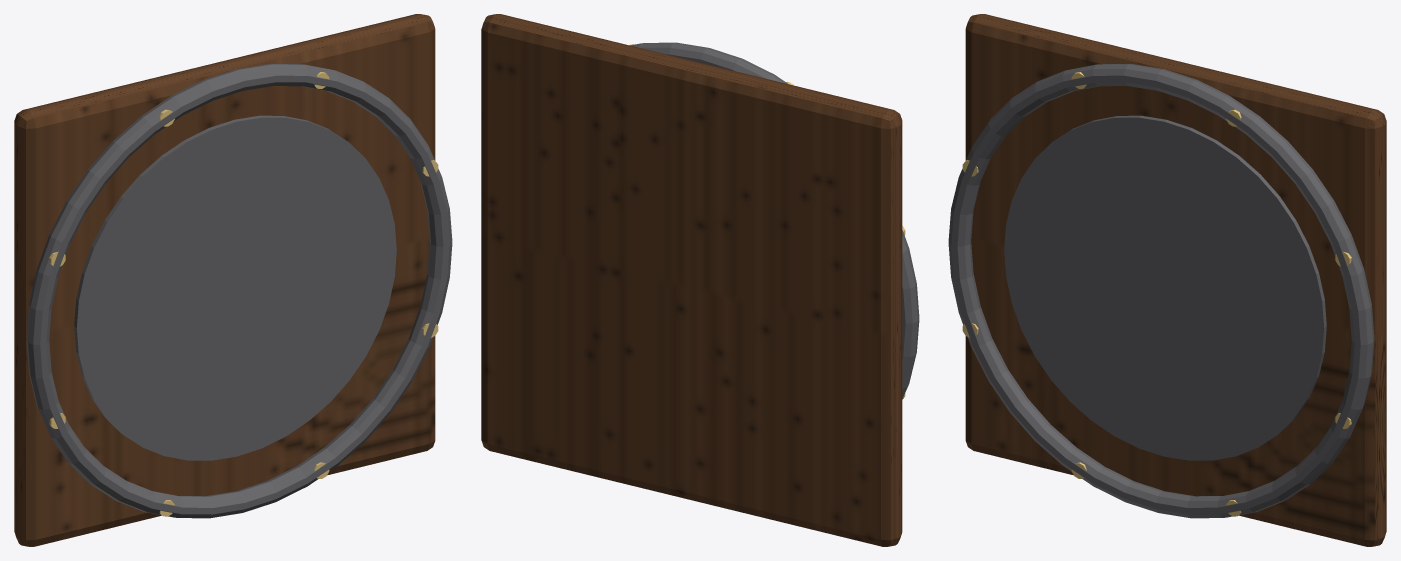
Rendered from range_plaque.glb.
3 views of the same model, side by side, from view 1: azimuth 30°, elevation 25°; view 2: azimuth 150°, elevation 25°; view 3: azimuth 330°, elevation 25° (orthographic).
Parts seen in each view (by area): view 1: plaque; view 2: plaque; view 3: plaque.
Boxes of the visible parts, x1,y1,x2,y2 form: plaque: (14, 14, 452, 546); plaque: (481, 14, 919, 546); plaque: (948, 14, 1386, 546).
Size of the model in its own units: 1.11 by 1.11 by 0.1257.
3 materials, 1 textured.
